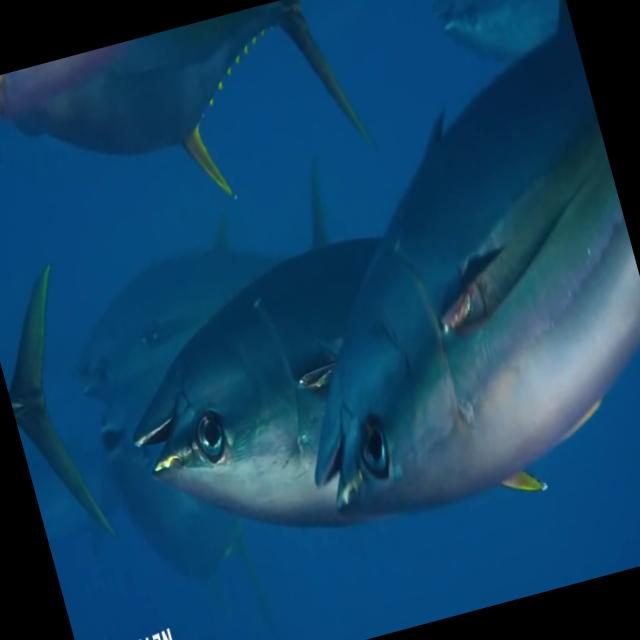fish: (215, 7, 640, 526), (107, 206, 549, 584), (0, 0, 366, 218)
